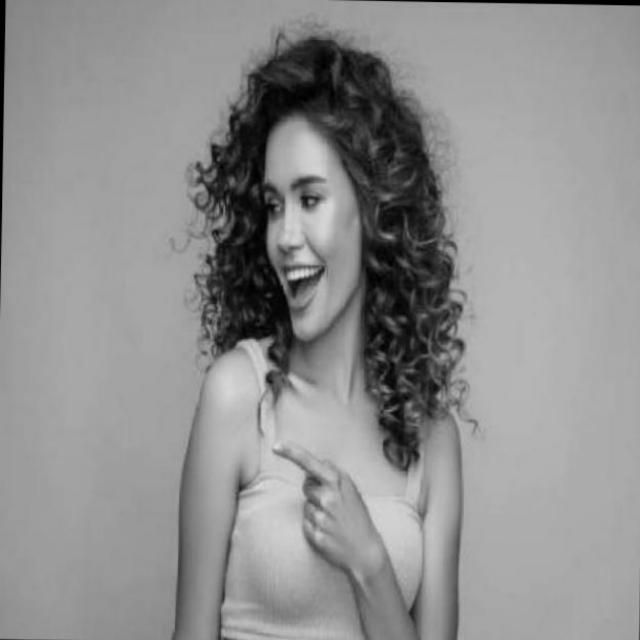Surprised: (249, 106, 376, 368)
